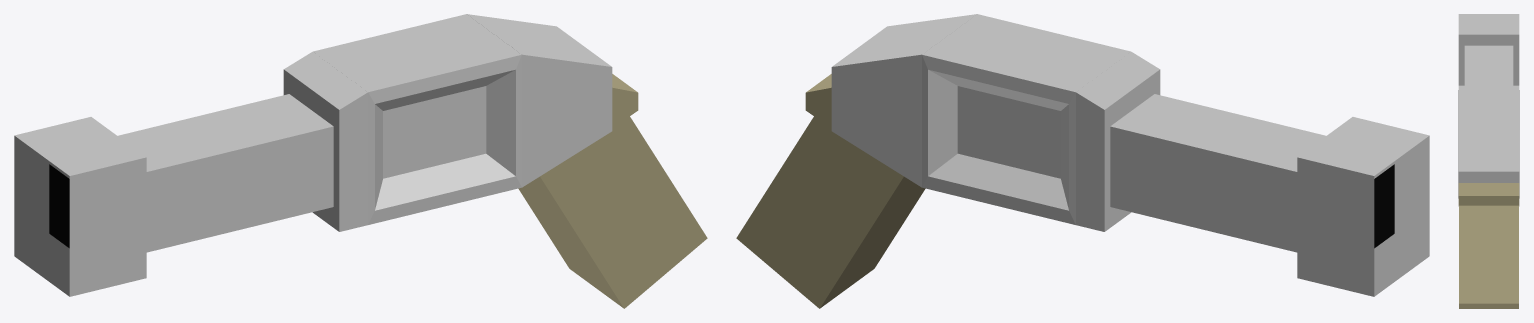
Rendered from Weapon.gltf.
The picture shows the model from 3 angles, left to right: view 1: azimuth 30°, elevation 25°; view 2: azimuth 150°, elevation 25°; view 3: azimuth 270°, elevation 25°; orthographic projection. The views are drawn at different scales.
Parts seen in each view (by area): view 1: Weapon; view 2: Weapon; view 3: Weapon.
Boxes of the visible parts, left/top/right/bottom form: Weapon: left=14, top=14, right=707, bottom=308; Weapon: left=736, top=14, right=1429, bottom=308; Weapon: left=1458, top=14, right=1519, bottom=308.
Size of what is drawn, in the model's own units: 0.6634 by 0.2777 by 0.1013.
